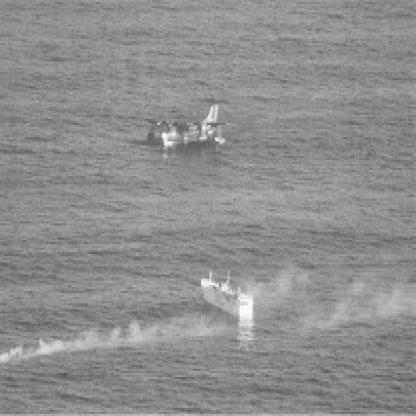US2: (141, 97, 231, 151)
